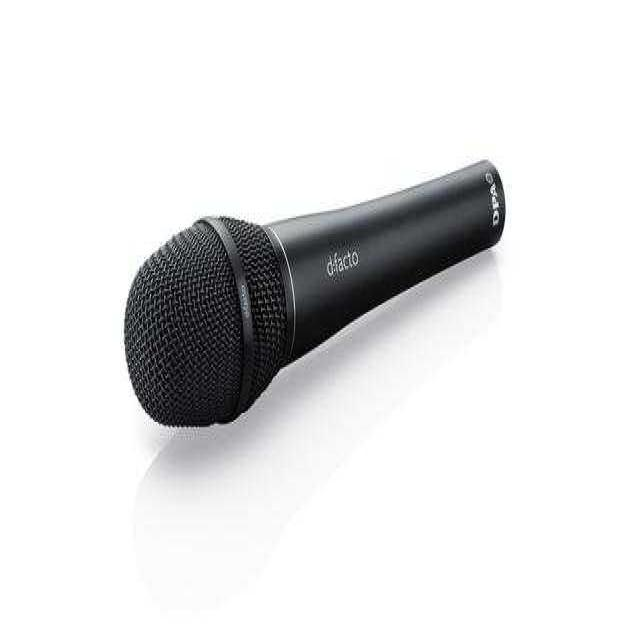microphone: (127, 157, 500, 430)
